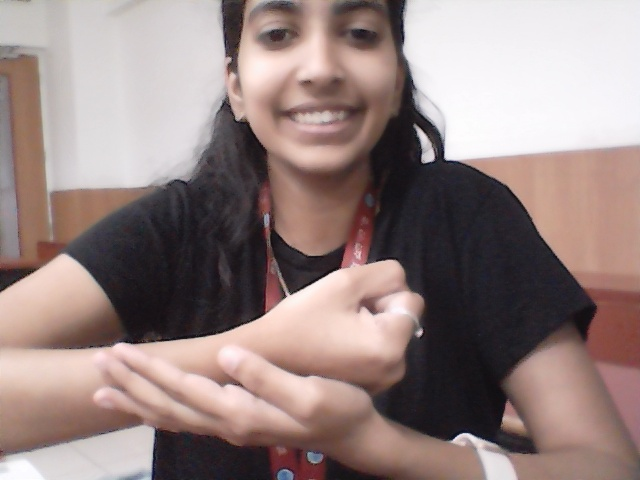Baby: (73, 225, 458, 462)
